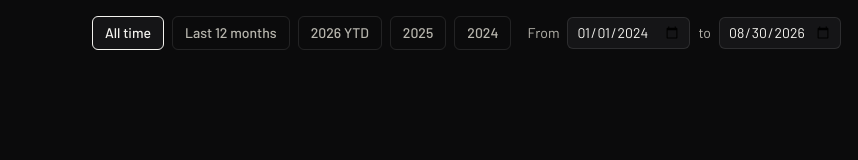
Scenario: presets write the window to the URL and mark the active one
Click the button "2025" at (418, 33), box [390,16,446,50]
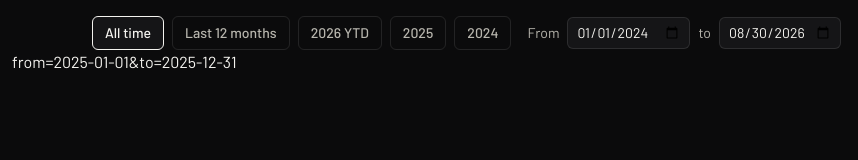
Expected: the text with test id "query" reads "from=2025-01-01&to=2025-12-31", [12,52,237,71]
